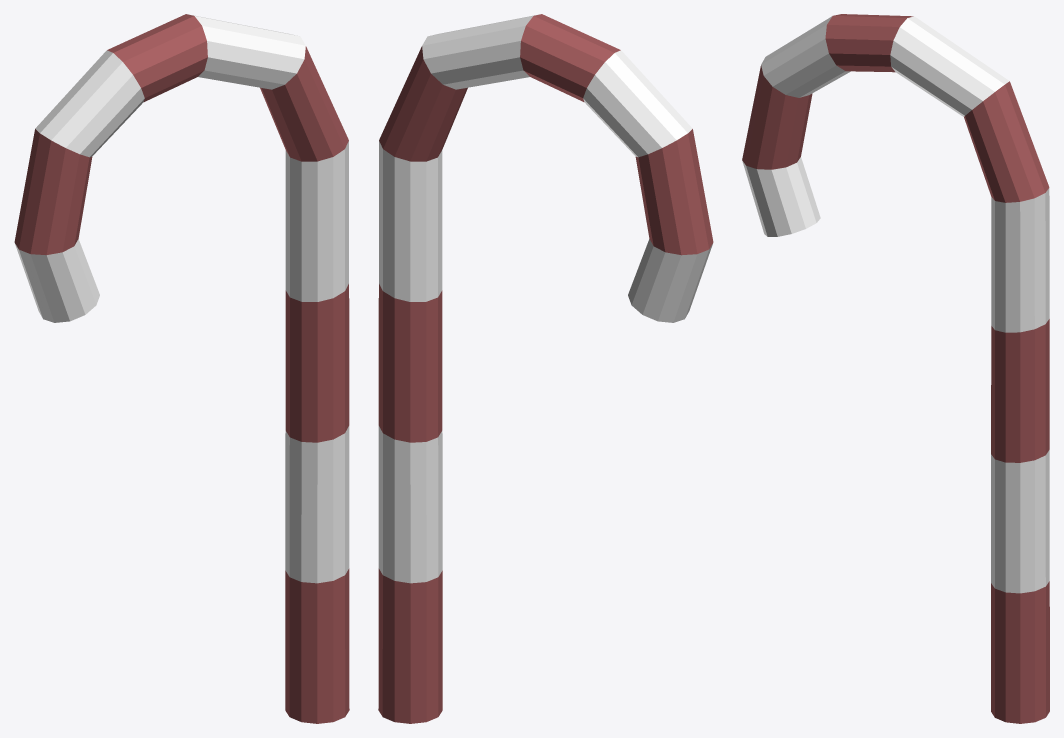
The model's file is komm.fbx.
3 renders of one model, left to right at view 1: azimuth 30°, elevation 25°; view 2: azimuth 150°, elevation 25°; view 3: azimuth 330°, elevation 25°, orthographic. The views are drawn at different scales.
Parts seen in each view (by area): view 1: Plane.001; view 2: Plane.001; view 3: Plane.001.
Boxes of the visible parts, <box> form: Plane.001: <box>14,14,349,723</box>; Plane.001: <box>378,14,713,723</box>; Plane.001: <box>742,14,1049,723</box>.
Bounding box in the file's own units: 46.94 × 99.57 × 8.
